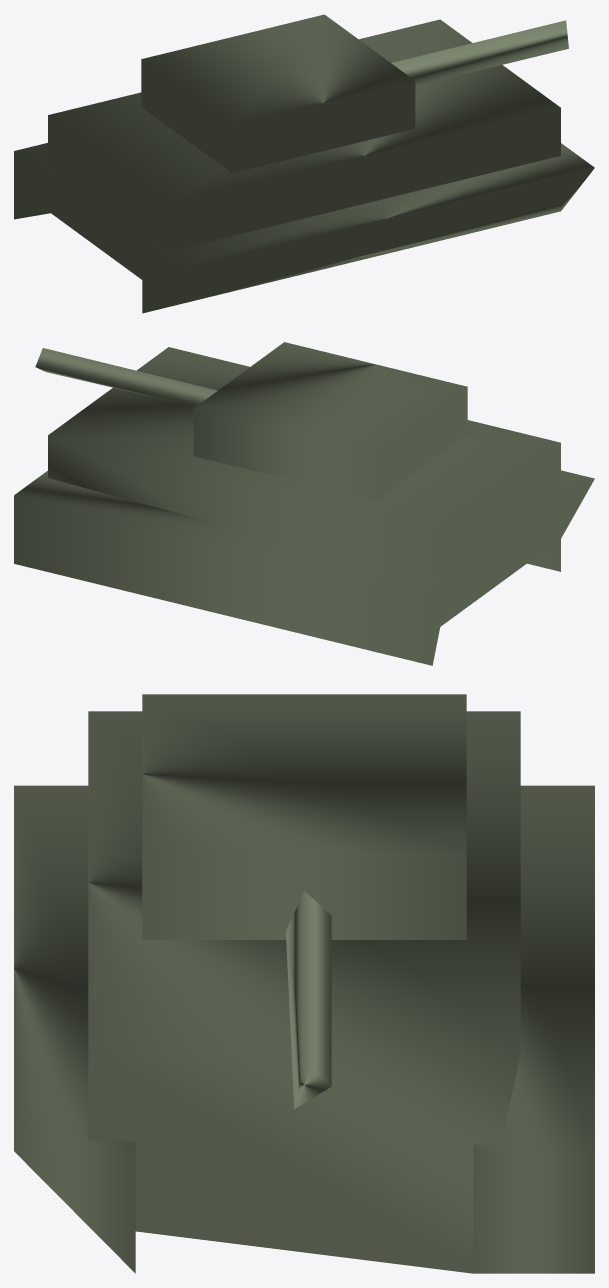
File: tank.lod1.glb
3 renders of one model, top to bottom at view 1: azimuth 30°, elevation 25°; view 2: azimuth 150°, elevation 25°; view 3: azimuth 270°, elevation 25°, orthographic. The views are drawn at different scales.
Bounding box in the file's own units: 3.6 × 1.2 × 2.15.
